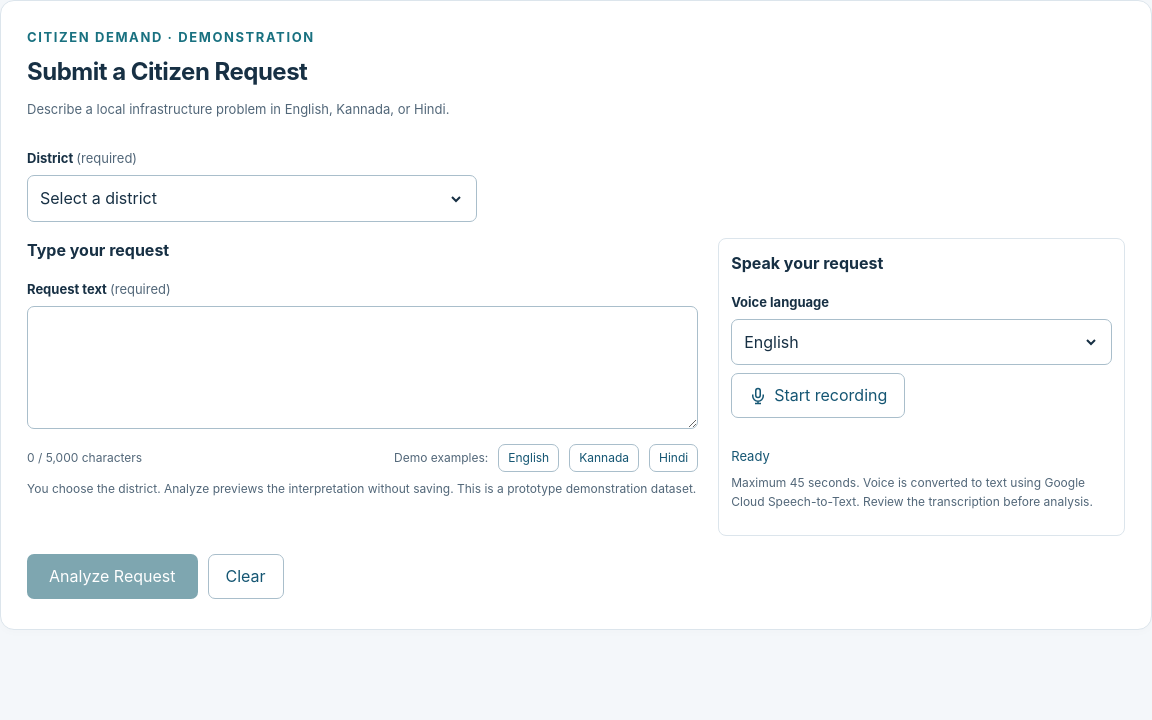
Test: selected district is captured at recording start and sent only as metadata
The width and height of the screenshot is (1152, 720).
Select "Mandya · Karnataka" in the dropdown labelled "District (required)": {"x": 252, "y": 199} [27, 175, 477, 222]
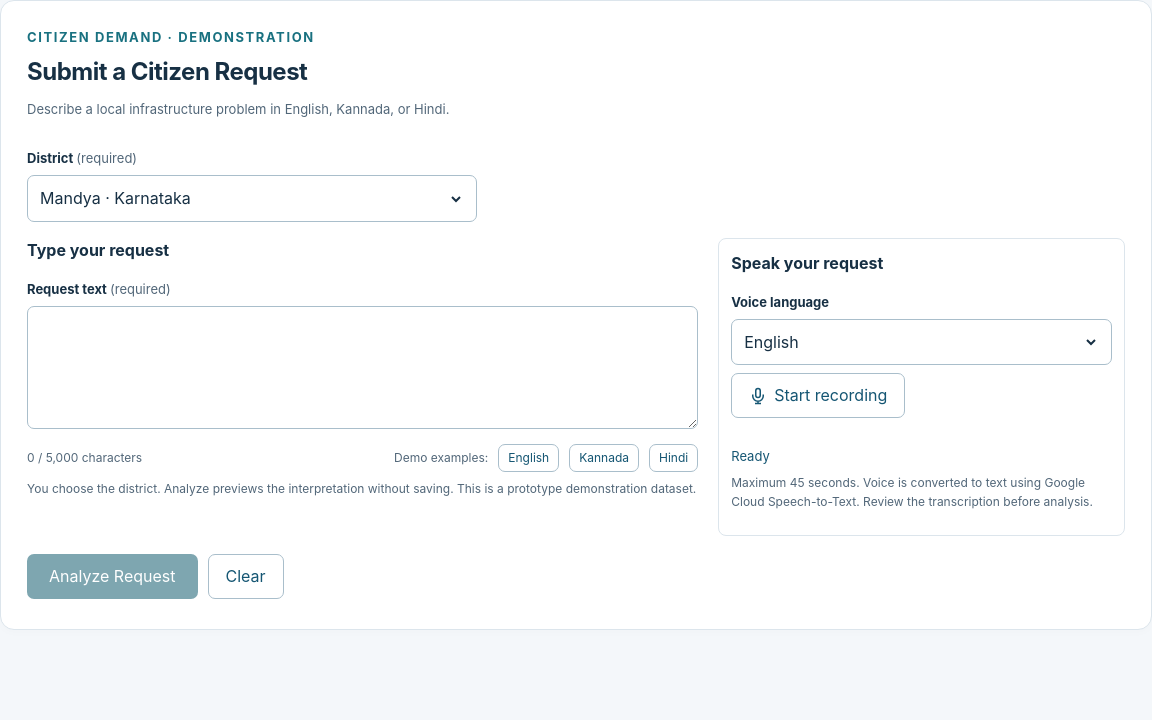
Click the button "Start recording": {"x": 818, "y": 396} [731, 373, 905, 418]
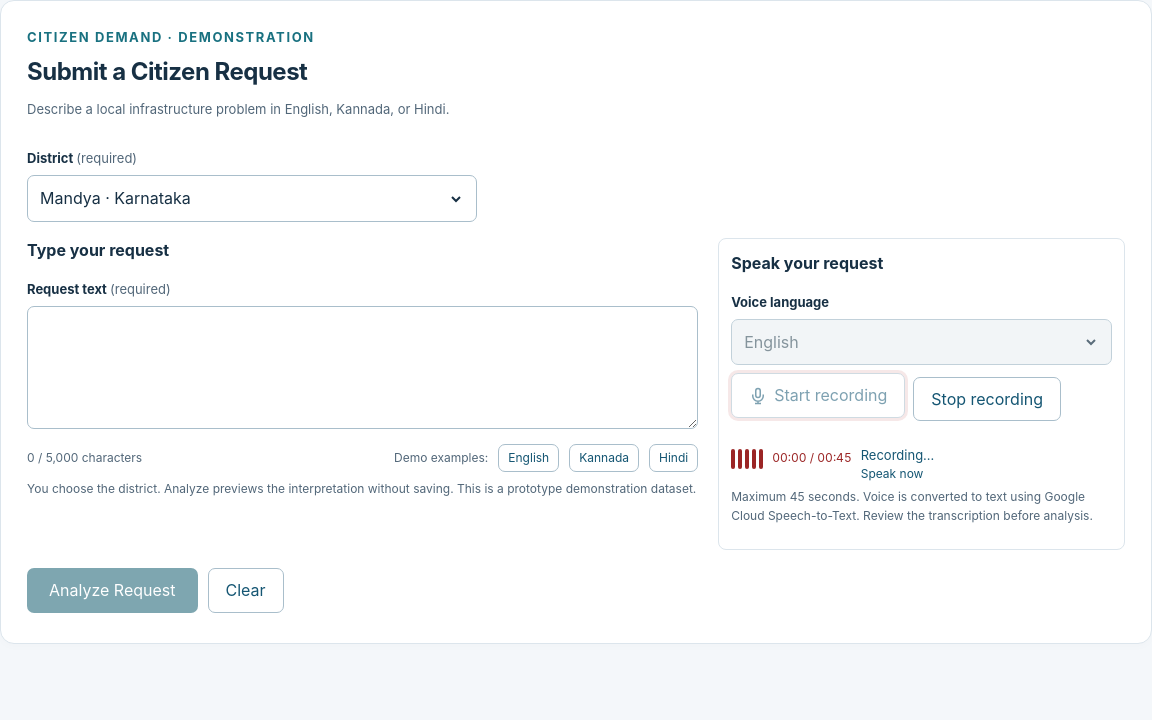
Now the text "Recording…" is shown, box [861, 447, 934, 463]
Select "Select a district" in the dropdown labelled "District (required)": {"x": 252, "y": 199} [27, 175, 477, 222]
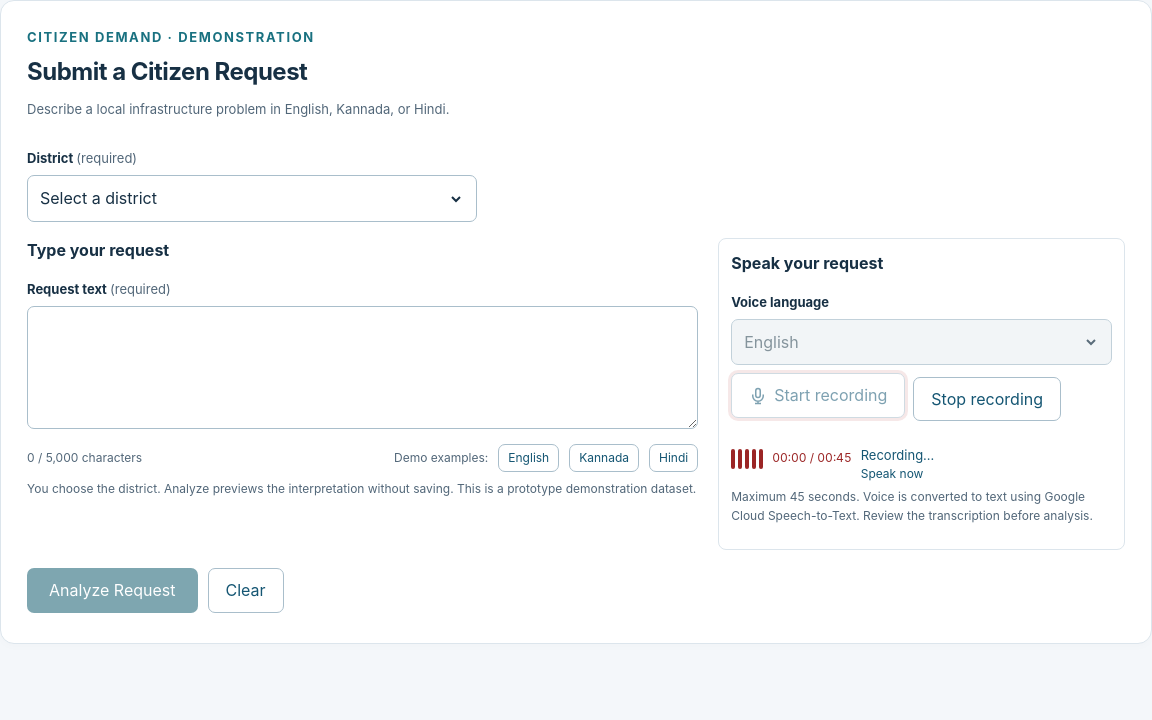
Click the button "Stop recording": {"x": 987, "y": 399} [913, 376, 1061, 421]
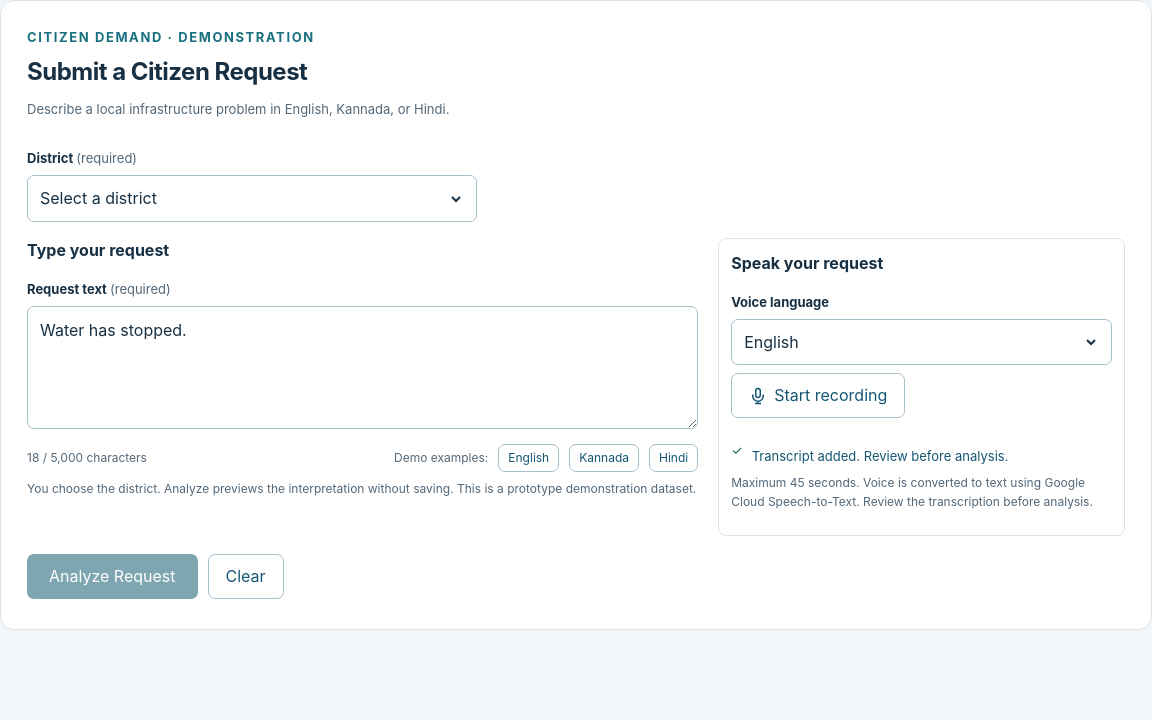
Now the text "Transcript added. Review before analysis." is shown, box [752, 446, 1008, 466]
